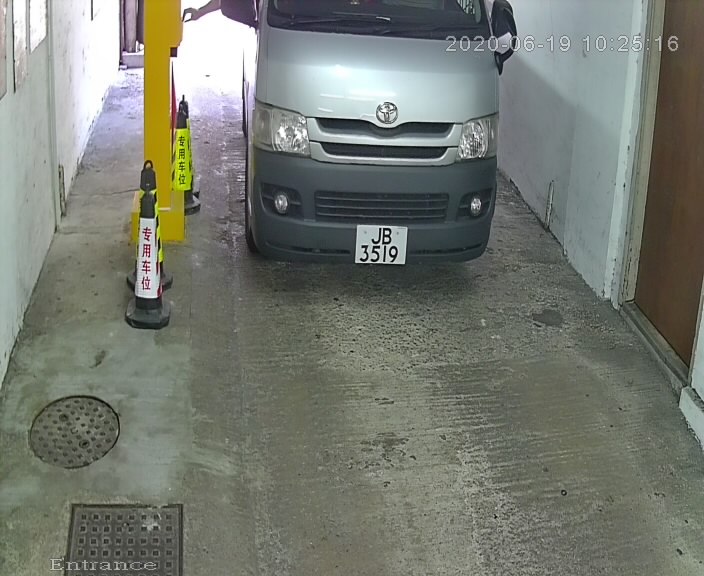privatecar: (208, 3, 529, 305)
